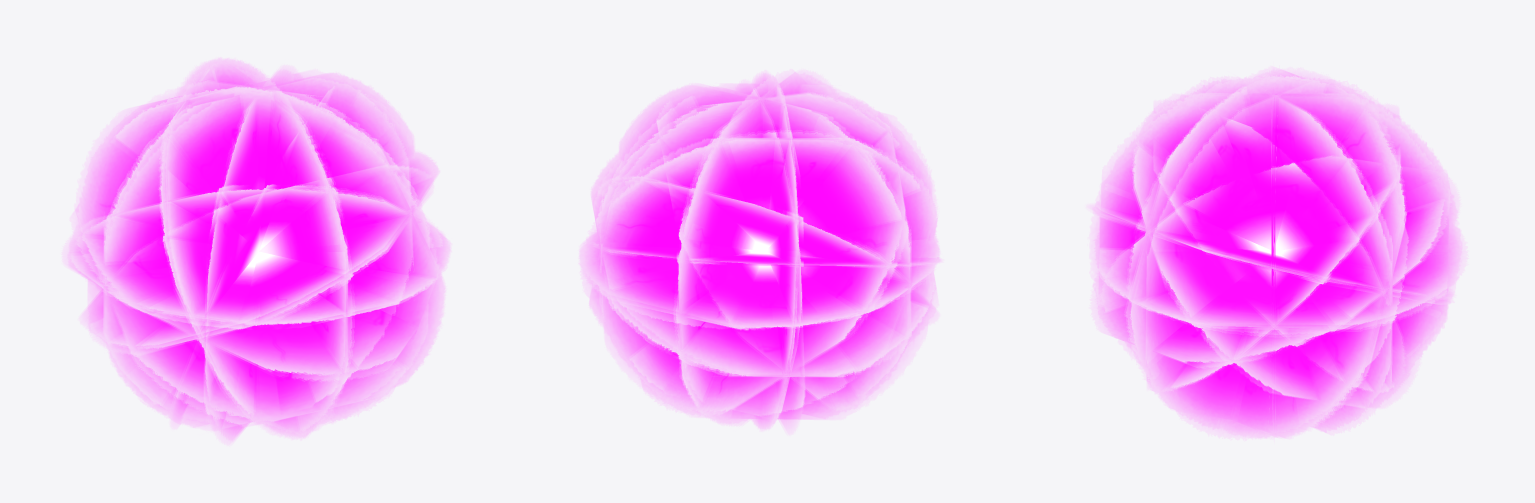
File: explosion-purple.glb
3 renders of one model, left to right at view 1: azimuth 30°, elevation 25°; view 2: azimuth 150°, elevation 25°; view 3: azimuth 270°, elevation 25°, orthographic. The views are drawn at different scales.
Visible parts, largest first — view 1: Object_2; view 2: Object_2; view 3: Object_2.
Part boxes in pixels (x1,y1,x2,y2): Object_2: (68, 60, 448, 440); Object_2: (581, 73, 939, 428); Object_2: (1093, 70, 1461, 436).
Bounding box in the file's own units: 7.06 × 7.07 × 7.07.
1 material, 1 textured.
